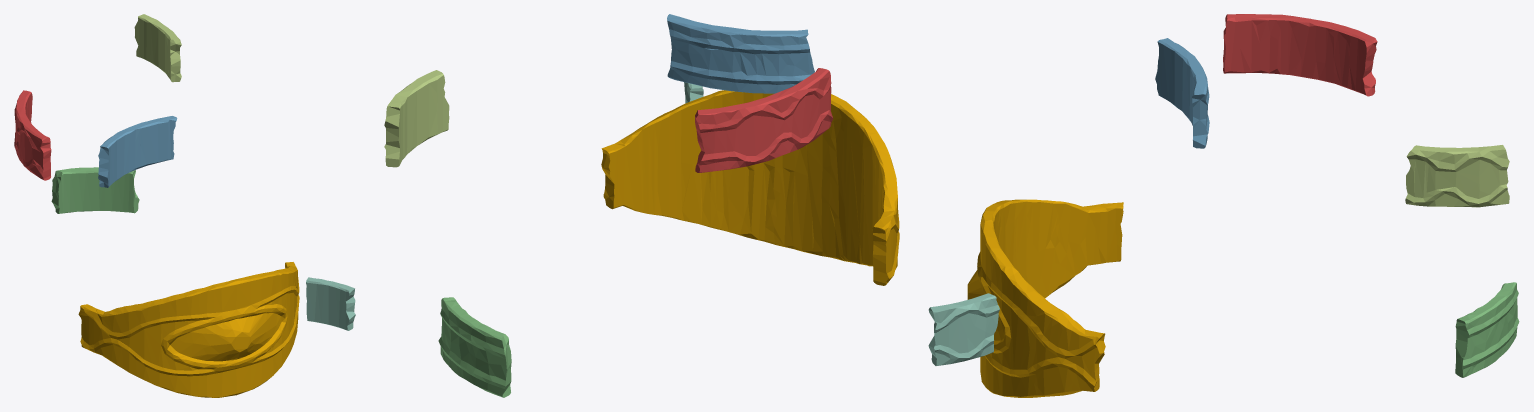
Rendered from fractured_11_6pcs_transformed.glb.
3 views of the same model, side by side, from view 1: azimuth 30°, elevation 25°; view 2: azimuth 150°, elevation 25°; view 3: azimuth 270°, elevation 25° (orthographic). The views are drawn at different scales.
Visible parts, largest first — view 1: piece_0.obj, piece_2.obj, piece_3.obj, piece_4.obj, piece_1.obj, piece_5.obj; view 2: piece_0.obj, piece_2.obj, piece_1.obj, piece_3.obj, piece_5.obj; view 3: piece_0.obj, piece_1.obj, piece_5.obj, piece_3.obj, piece_4.obj, piece_2.obj.
Boxes of the visible parts, left/top/right/bottom form: piece_0.obj: left=78, top=262, right=299, bottom=397; piece_2.obj: left=98, top=116, right=177, bottom=187; piece_3.obj: left=51, top=167, right=139, bottom=213; piece_4.obj: left=306, top=277, right=355, bottom=330; piece_1.obj: left=14, top=90, right=51, bottom=180; piece_5.obj: left=134, top=14, right=181, bottom=82; piece_0.obj: left=601, top=90, right=899, bottom=285; piece_2.obj: left=667, top=14, right=814, bottom=93; piece_1.obj: left=695, top=68, right=833, bottom=172; piece_3.obj: left=438, top=297, right=511, bottom=397; piece_5.obj: left=384, top=70, right=449, bottom=167; piece_0.obj: left=967, top=199, right=1123, bottom=397; piece_1.obj: left=1223, top=14, right=1377, bottom=96; piece_5.obj: left=1405, top=145, right=1509, bottom=207; piece_3.obj: left=1455, top=282, right=1519, bottom=377; piece_4.obj: left=928, top=293, right=999, bottom=365; piece_2.obj: left=1155, top=38, right=1209, bottom=148.
Bounding box in the file's own units: 0.9675 × 0.934 × 1.71.
